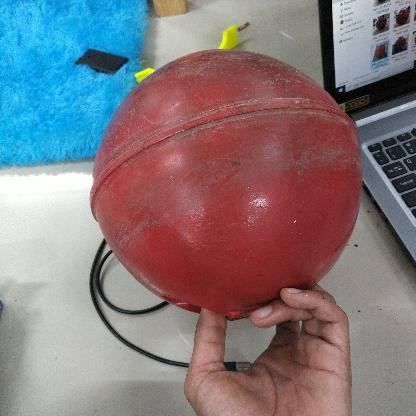red_buoy: (91, 48, 364, 314)
